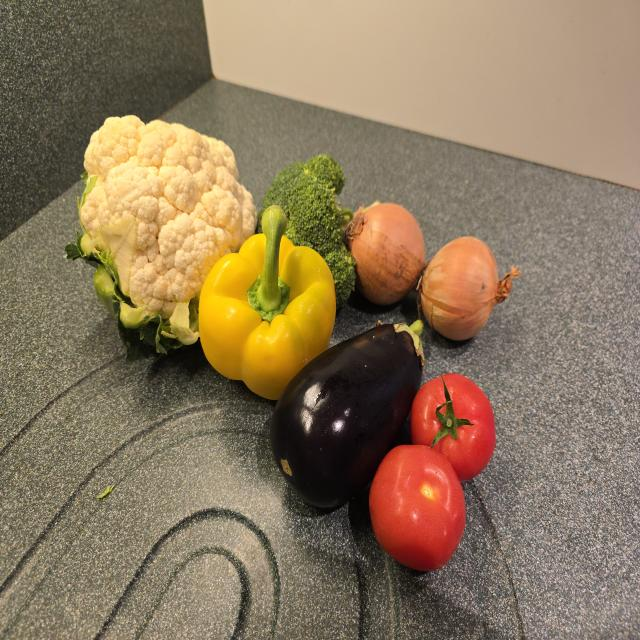Bell Pepper: (199, 204, 335, 400)
Broccoli: (260, 154, 355, 306)
Cauliflower: (78, 116, 257, 353)
Eggplant: (271, 319, 425, 509)
Onion: (417, 237, 520, 340), (345, 201, 426, 305)
Tomato: (369, 444, 465, 571), (410, 374, 496, 482)
